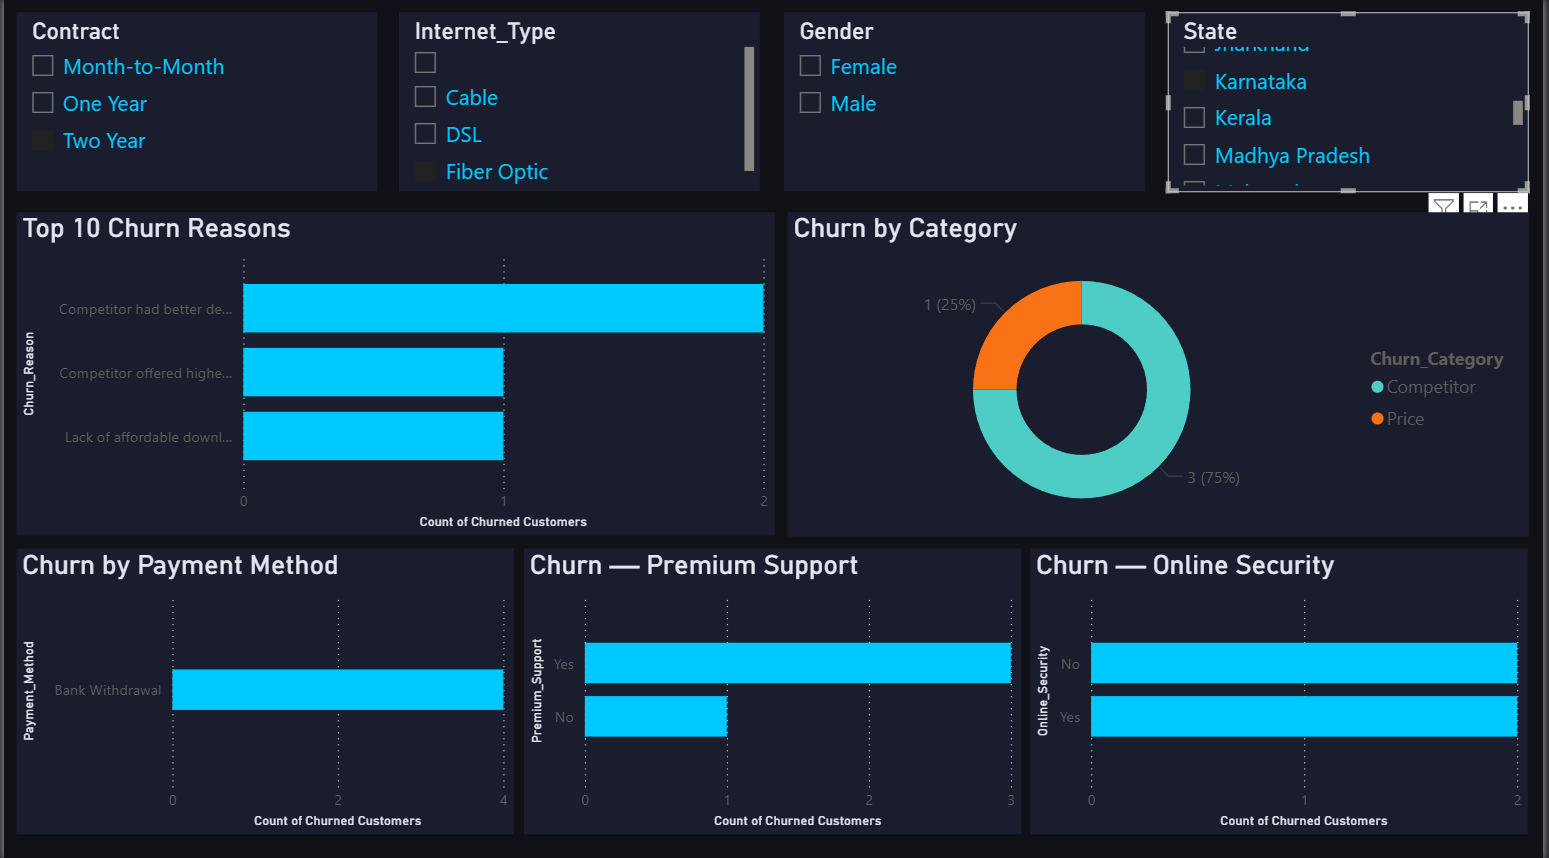

The page's visual inventory and layout, read from the dashboard file:
{"tool":"powerbi","page":{"name":"Churn Analysis","canvas":[1280,720],"ordinal":1},"visuals":[{"type":"slicer","fields":{"Values":["churn_db cleaned_churn.Contract"]},"box":[10.5,14,300,148.8],"z":0},{"type":"slicer","fields":{"Values":["churn_db cleaned_churn.Internet_Type"]},"box":[327.9,14,300,148.8],"z":1000},{"type":"slicer","fields":{"Values":["churn_db cleaned_churn.Gender"]},"box":[648.8,14,300,148.8],"z":2000},{"type":"slicer","fields":{"Values":["churn_db cleaned_churn.State"]},"box":[967.4,14,300,148.8],"z":3000},{"type":"clusteredBarChart","title":"Top 10 Churn Reasons","fields":{"Category":["churn_db cleaned_churn.Churn_Reason"],"Y":["CountNonNull(churn_db cleaned_churn.Churned Customers)"]},"box":[10.5,180.2,630.2,268.6],"z":4000},{"type":"donutChart","title":"Churn by Category","fields":{"Category":["churn_db cleaned_churn.Churn_Category"],"Y":["CountNonNull(churn_db cleaned_churn.Churned Customers)"]},"box":[651.2,180.2,616.3,269.8],"z":5000},{"type":"clusteredBarChart","title":"Churn by Payment Method","fields":{"Category":["churn_db cleaned_churn.Payment_Method"],"Y":["CountNonNull(churn_db cleaned_churn.Churned Customers)"]},"box":[10.5,459.3,414,237.2],"z":6000},{"type":"clusteredBarChart","title":"Churn — Online Security","fields":{"Y":["CountNonNull(churn_db cleaned_churn.Churned Customers)"],"Category":["churn_db cleaned_churn.Online_Security"]},"box":[853.5,459.3,414,237.2],"z":7000},{"type":"clusteredBarChart","title":"Churn — Premium Support","fields":{"Category":["churn_db cleaned_churn.Premium_Support"],"Y":["CountNonNull(churn_db cleaned_churn.Churned Customers)"]},"box":[432.6,459.3,414,237.2],"z":8000}]}

Visuals, with their boxes in screenshot pixels (x1, y1, x2, y2), scaled from the page's 1280x720 canvas onto the 1549x858 screenshot:
slicer - churn_db cleaned_churn.Contract: 13/17/376/194
slicer - churn_db cleaned_churn.Internet_Type: 397/17/760/194
slicer - churn_db cleaned_churn.Gender: 785/17/1148/194
slicer - churn_db cleaned_churn.State: 1171/17/1534/194
"Top 10 Churn Reasons" clusteredBarChart: 13/215/775/535
"Churn by Category" donutChart: 788/215/1534/536
"Churn by Payment Method" clusteredBarChart: 13/547/514/830
"Churn — Online Security" clusteredBarChart: 1033/547/1534/830
"Churn — Premium Support" clusteredBarChart: 524/547/1025/830
